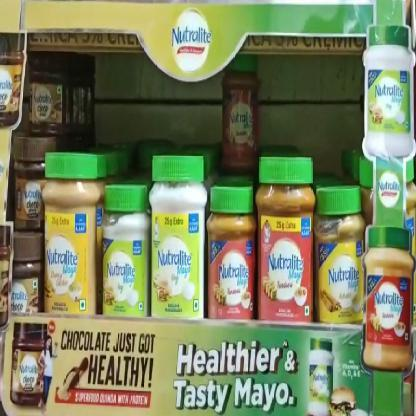Nutralite ACHARI MAYO 300g-275g-25g-: (314, 189, 363, 323)
Nutralite CHEESY GARLIC MAYO 300g-275g-25g-: (45, 154, 97, 328)
Nutralite CHOCO SPREAD CALCIUM 275g: (14, 134, 46, 232)
Nutralite TANDOORI MAYO 300g-275g-25g-: (256, 158, 313, 325), (209, 186, 254, 313)
Nutralite VEG MAYO 300g-275g-25g-: (152, 155, 206, 320), (104, 186, 151, 315)
